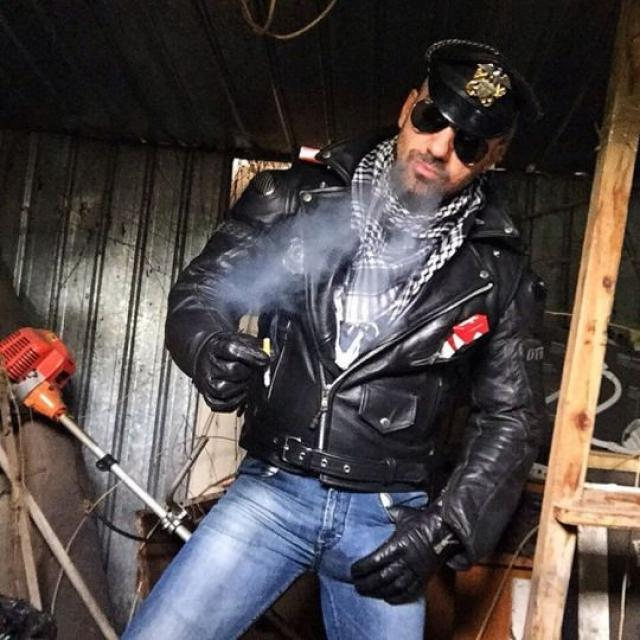smoke: (260, 338, 277, 389)
